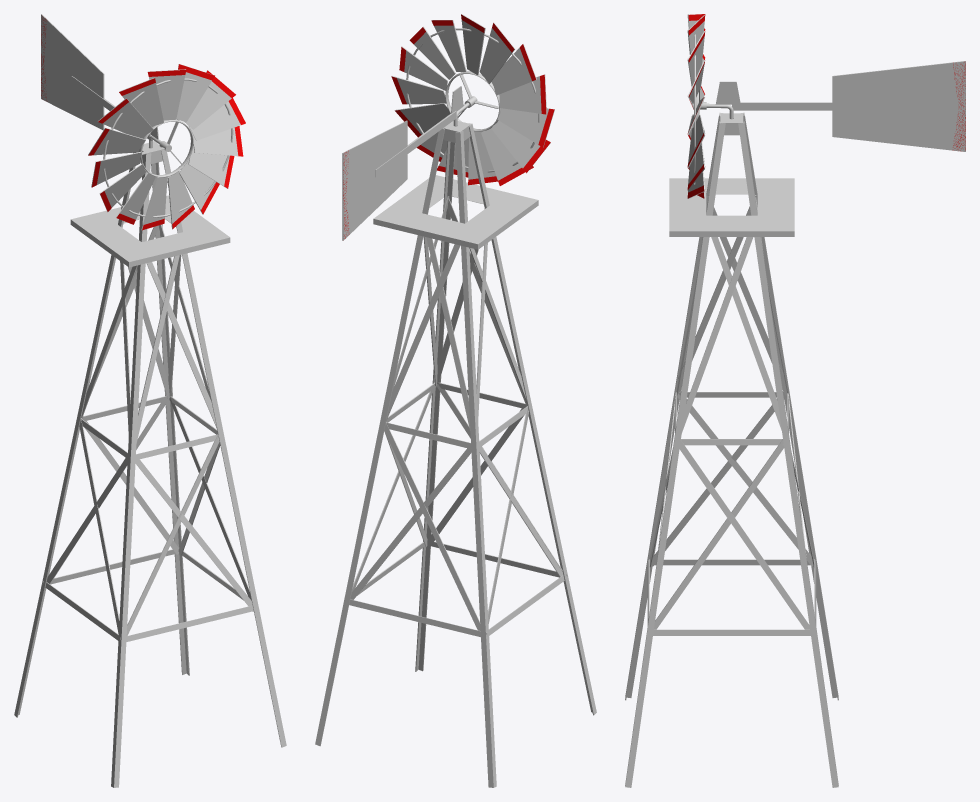
Rendered from windmill.dae.
3 renders of one model, left to right at view 1: azimuth 30°, elevation 25°; view 2: azimuth 150°, elevation 25°; view 3: azimuth 270°, elevation 25°, orthographic. The views are drawn at different scales.
Visible parts, largest first — view 1: group_0 (×17), __E23, __E22, __E1, __E2, __E15, __E20, __E14, __E21, __E19, __E8, __E18 (+4 smaller); view 2: group_0 (×17), __E2, __E1, __E22, __E23, __E17, __E18, __E6, __E15, __E14, __E19, __E16 (+5 smaller); view 3: group_0 (×7), __E1, __E22, __E2, __E23, __E16, __E21, __E24, __E19, __E14, __E9, __E7 (+1 smaller).
Boxes of the visible parts, x1=… form: group_0 (×17): x1=41, y1=14, x2=241, y2=442; __E23: x1=111, y1=153, x2=151, y2=787; __E22: x1=161, y1=150, x2=286, y2=747; __E1: x1=151, y1=141, x2=189, y2=675; __E2: x1=14, y1=152, x2=135, y2=717; __E15: x1=135, y1=455, x2=253, y2=611; __E20: x1=126, y1=434, x2=219, y2=635; __E14: x1=79, y1=418, x2=119, y2=633; __E21: x1=169, y1=396, x2=251, y2=600; __E19: x1=46, y1=455, x2=127, y2=583; __E8: x1=120, y1=605, x2=253, y2=641; __E18: x1=83, y1=416, x2=178, y2=554; group_0 (×17): x1=342, y1=14, x2=554, y2=430; __E2: x1=455, y1=131, x2=496, y2=787; __E1: x1=315, y1=128, x2=444, y2=746; __E22: x1=415, y1=141, x2=455, y2=671; __E23: x1=468, y1=123, x2=596, y2=715; __E17: x1=384, y1=422, x2=480, y2=630; __E18: x1=350, y1=444, x2=471, y2=599; __E6: x1=349, y1=599, x2=487, y2=637; __E15: x1=427, y1=408, x2=524, y2=547; __E14: x1=479, y1=443, x2=563, y2=576; __E19: x1=488, y1=406, x2=528, y2=623; __E16: x1=352, y1=382, x2=434, y2=591; group_0 (×7): x1=669, y1=61, x2=965, y2=433; __E1: x1=738, y1=121, x2=838, y2=787; __E22: x1=625, y1=121, x2=725, y2=787; __E2: x1=741, y1=112, x2=838, y2=700; __E23: x1=625, y1=112, x2=722, y2=700; __E16: x1=679, y1=440, x2=809, y2=629; __E21: x1=654, y1=439, x2=784, y2=629; __E24: x1=732, y1=102, x2=898, y2=110; __E19: x1=677, y1=391, x2=814, y2=566; __E14: x1=651, y1=391, x2=785, y2=566; __E9: x1=653, y1=629, x2=810, y2=635; __E7: x1=649, y1=559, x2=814, y2=565.
Bounding box in the file's own units: 27.39 × 43.66 × 102.
